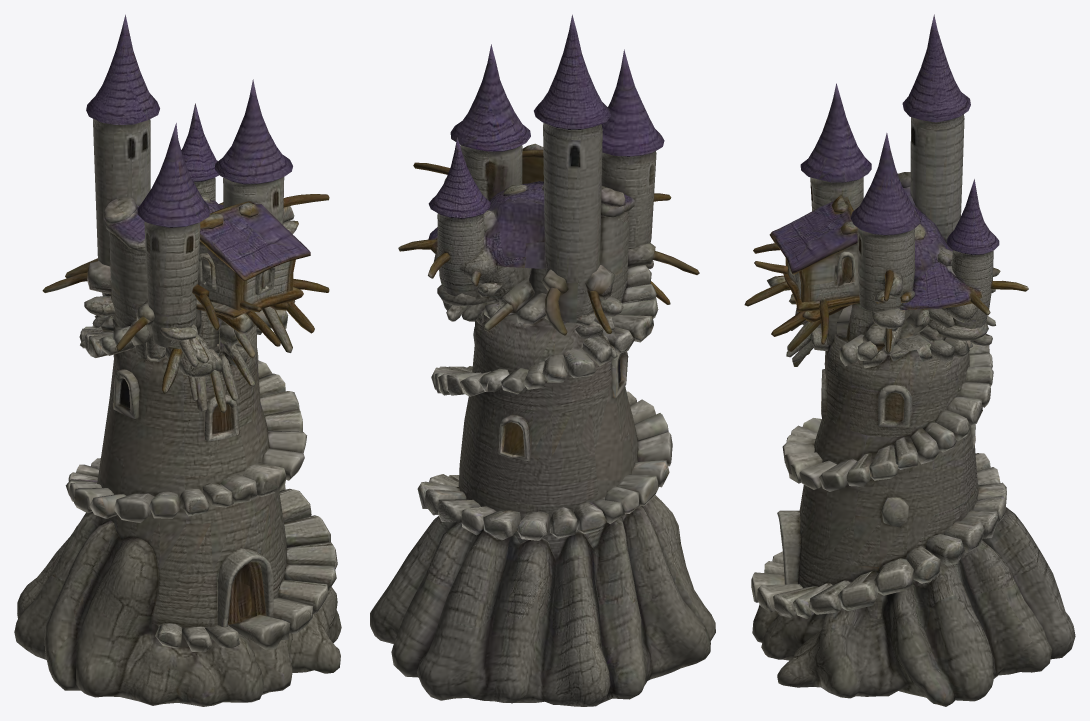
File: site_mage_tower.glb
3 views of the same model, side by side, from view 1: azimuth 30°, elevation 25°; view 2: azimuth 150°, elevation 25°; view 3: azimuth 270°, elevation 25° (orthographic). The views are drawn at different scales.
Size of the model in its own units: 0.4684 by 1 by 0.4902.
1 material, 1 textured.
